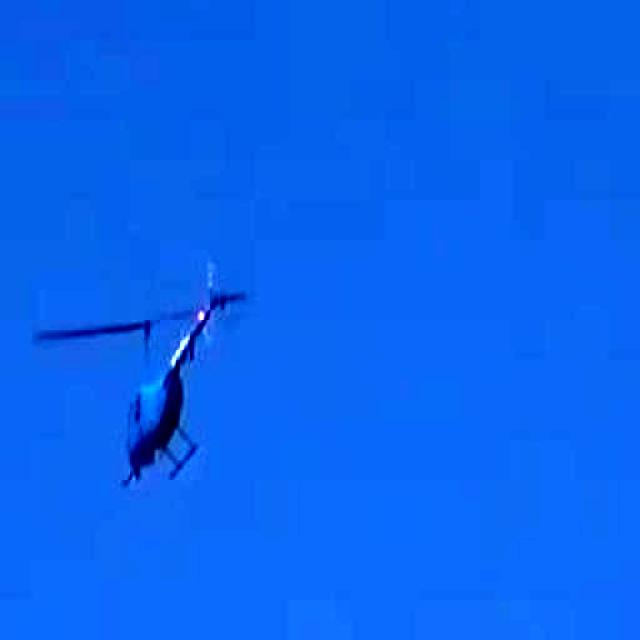drone: (44, 270, 280, 526)
